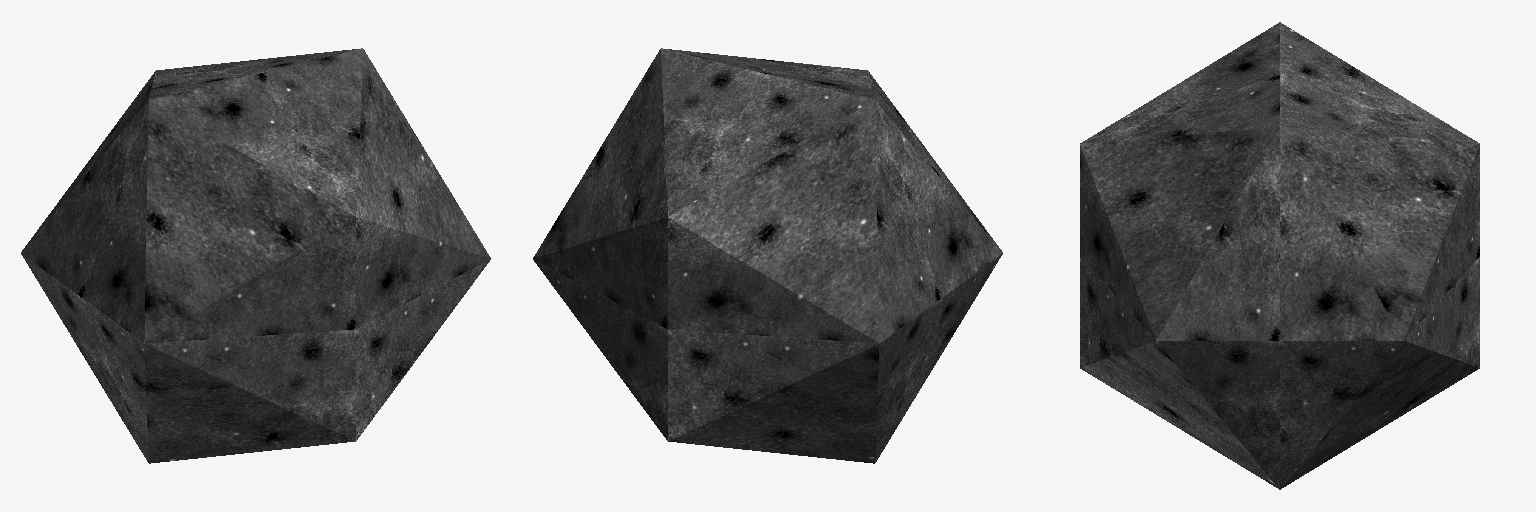
3 renders of one model, left to right at view 1: azimuth 30°, elevation 25°; view 2: azimuth 150°, elevation 25°; view 3: azimuth 270°, elevation 25°, orthographic.
Parts seen in each view (by area): view 1: asteroid; view 2: asteroid; view 3: asteroid.
Part boxes in pixels (bbox=[...]): asteroid: bbox=[21, 48, 490, 463]; asteroid: bbox=[533, 48, 1002, 463]; asteroid: bbox=[1080, 22, 1479, 489].
Size of the model in its own units: 1.7 by 1.7 by 1.7.
1 materials, 1 textured.